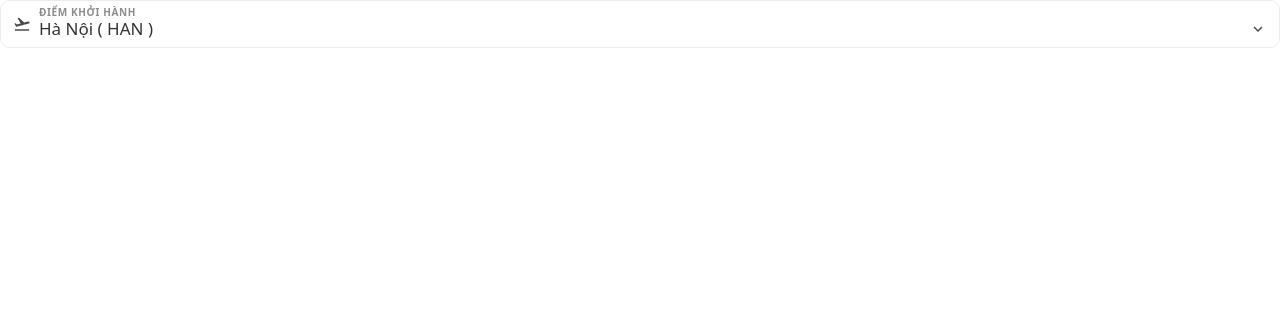
Test case: AirportPicker › lists every airport with its name
The width and height of the screenshot is (1280, 311).
What coordinates should you click on to do the following:
click the button with aria-label "Điểm khởi hành"
I would click on:
 (66, 28)
Its box is [39,17,1267,41].
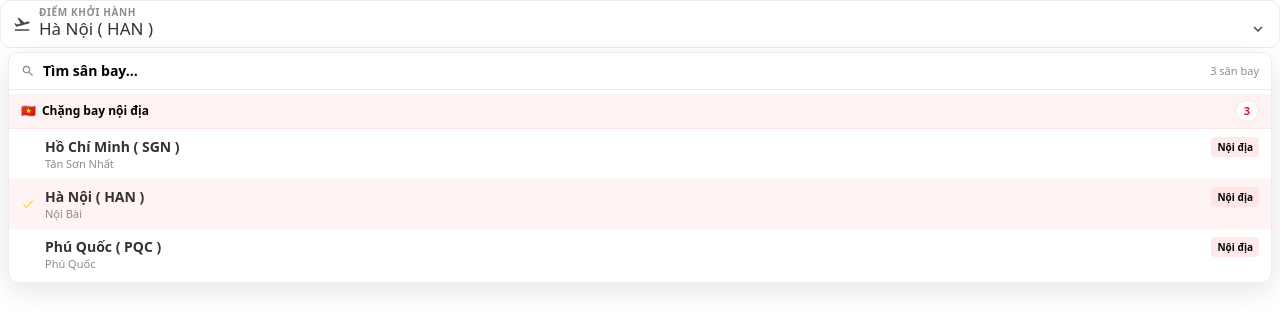
Now the number of options is 3, box [9,129,1271,179]; [9,179,1271,229]; [9,228,1271,278]
Now the text "Nội Bài" is shown, box [45,206,82,221]
